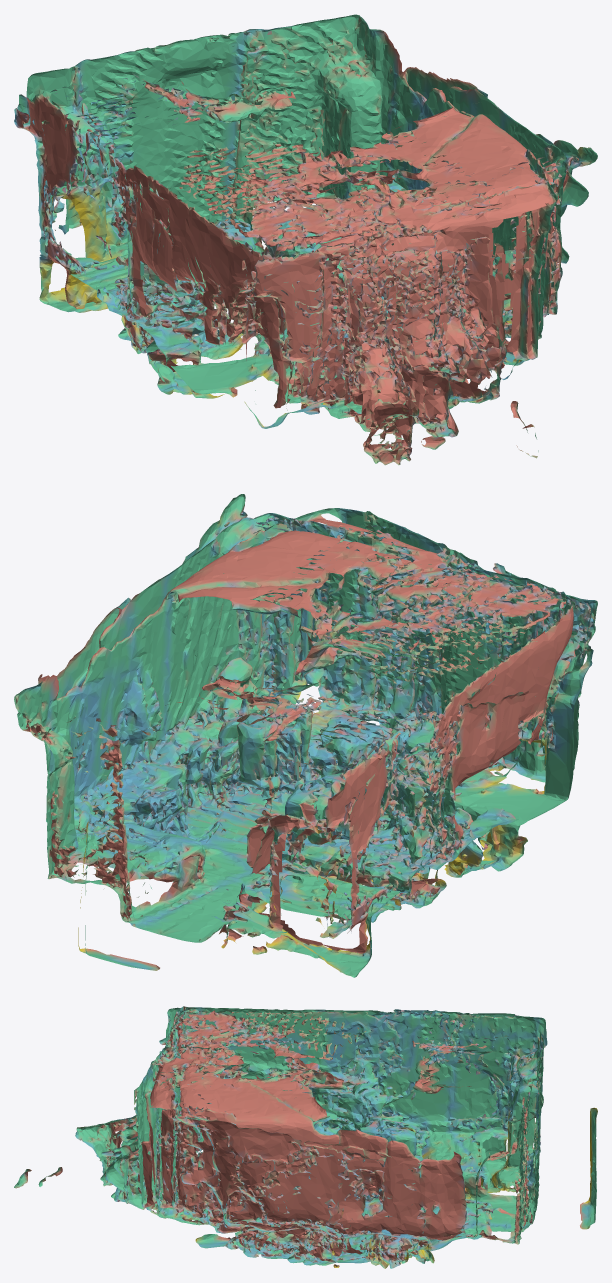
File: coverage_heatmap.glb
3 renders of one model, top to bottom at view 1: azimuth 30°, elevation 25°; view 2: azimuth 150°, elevation 25°; view 3: azimuth 270°, elevation 25°, orthographic. The views are drawn at different scales.
Parts seen in each view (by area): view 1: geometry_0; view 2: geometry_0; view 3: geometry_0.
Part boxes in pixels (x1=…): geometry_0: x1=14, y1=14, x2=597, y2=465; geometry_0: x1=14, y1=494, x2=597, y2=977; geometry_0: x1=14, y1=1006, x2=597, y2=1268.
Bounding box in the file's own units: 2.38 × 1.45 × 4.31.
